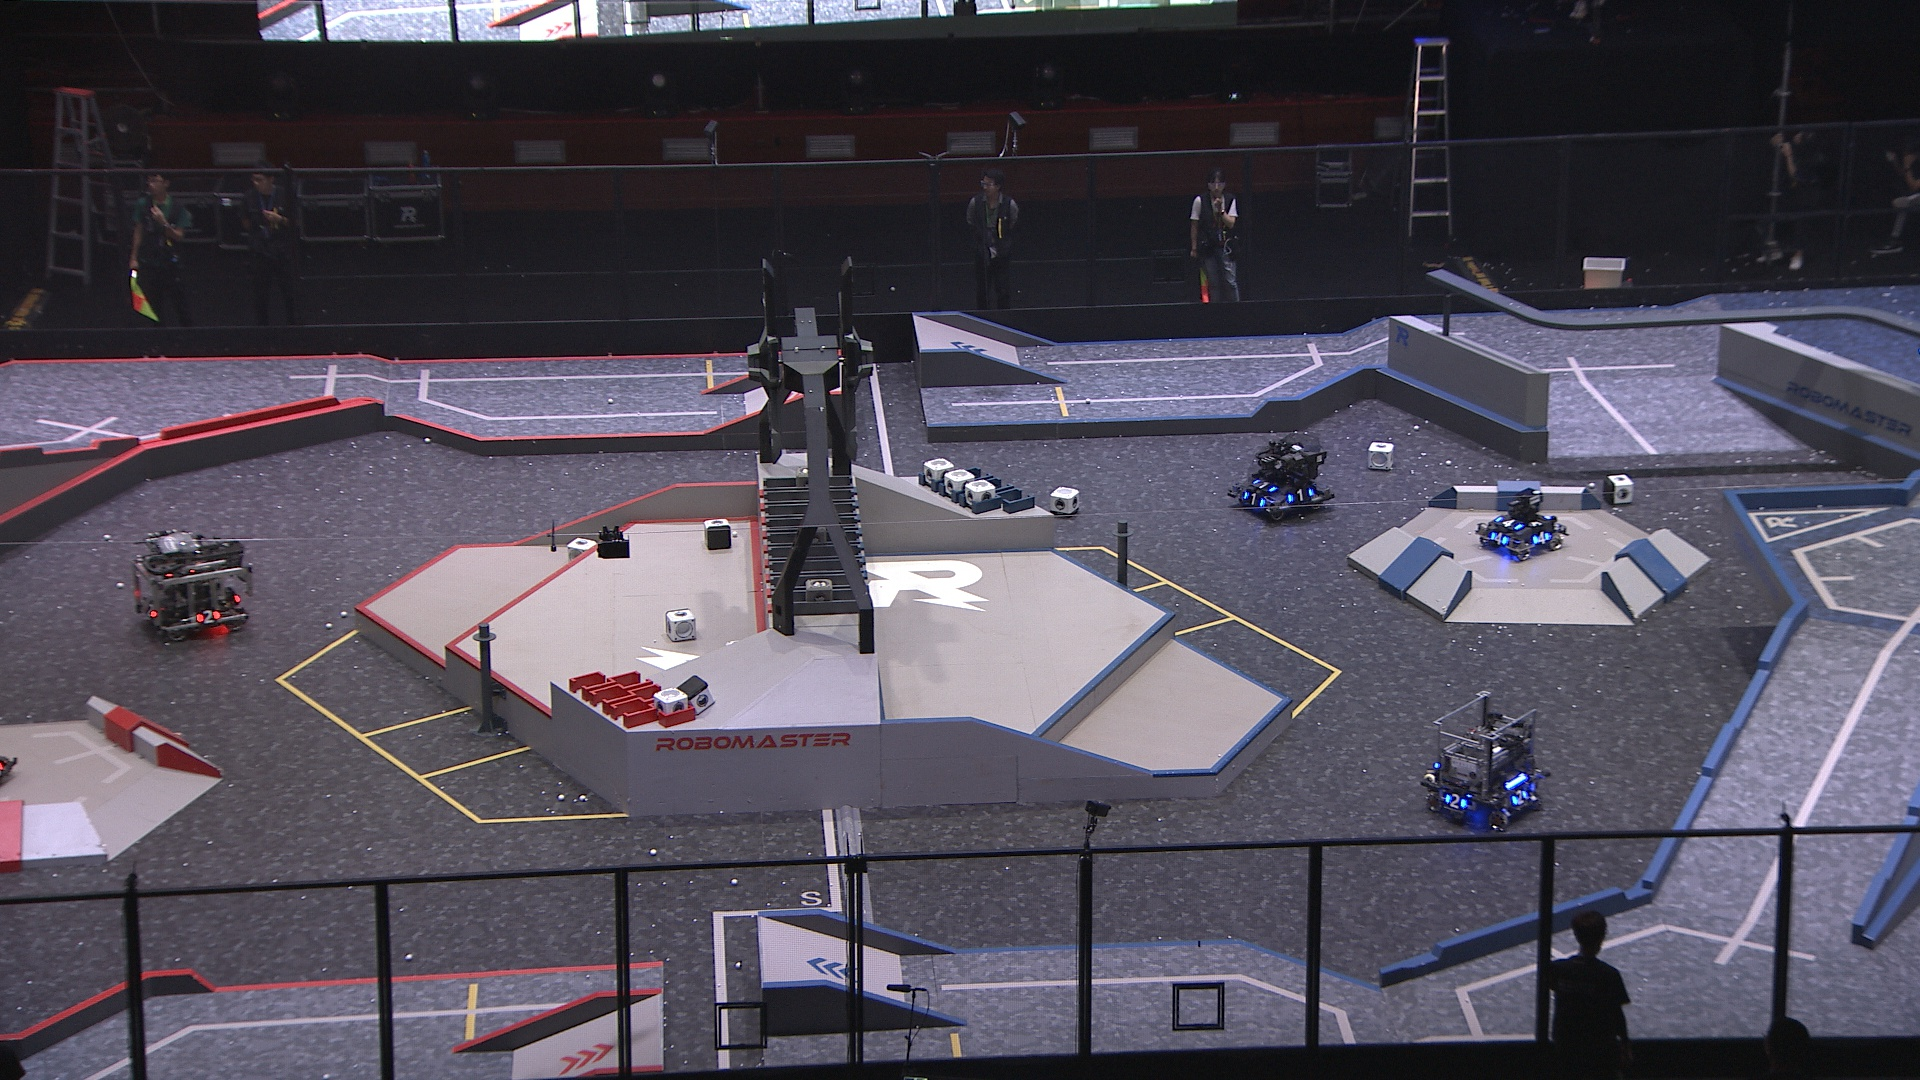armor: (191, 605, 223, 628), (1439, 790, 1470, 812), (1495, 512, 1524, 534), (138, 597, 162, 624), (1505, 787, 1532, 808), (1251, 475, 1280, 495), (1487, 527, 1513, 550), (1244, 488, 1267, 509), (1283, 488, 1313, 502), (1532, 529, 1552, 545)
car: (1420, 684, 1547, 835), (125, 524, 253, 647), (1226, 429, 1338, 522), (1477, 485, 1567, 564)
